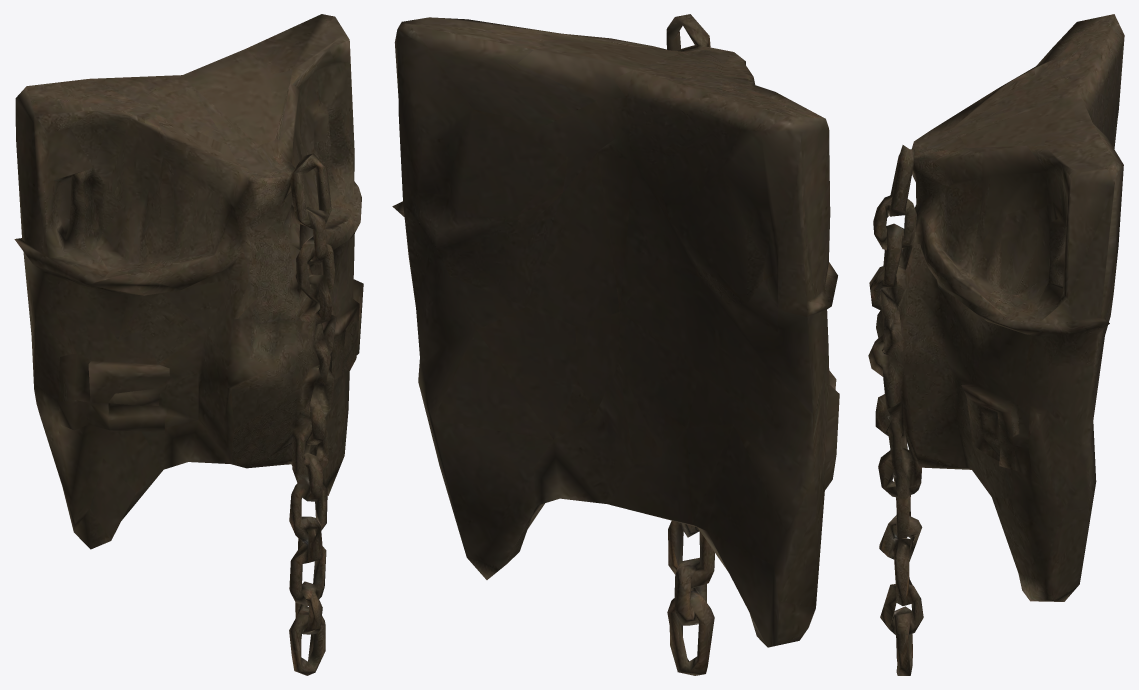
File: chain.glb
3 views of the same model, side by side, from view 1: azimuth 30°, elevation 25°; view 2: azimuth 150°, elevation 25°; view 3: azimuth 270°, elevation 25° (orthographic). The views are drawn at different scales.
Size of the model in its own units: 1.17 by 1.9 by 0.7688.
Materials: 1 (1 with a texture image).
